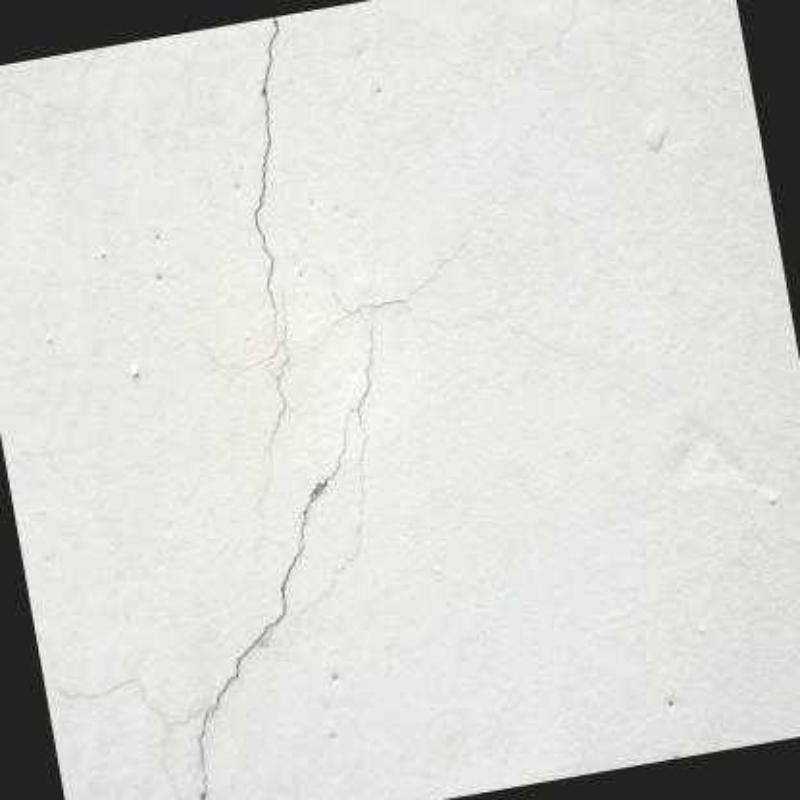crack: (194, 420, 354, 798), (244, 269, 379, 667), (62, 677, 208, 798), (249, 15, 283, 342), (360, 235, 471, 312), (240, 335, 292, 460)
